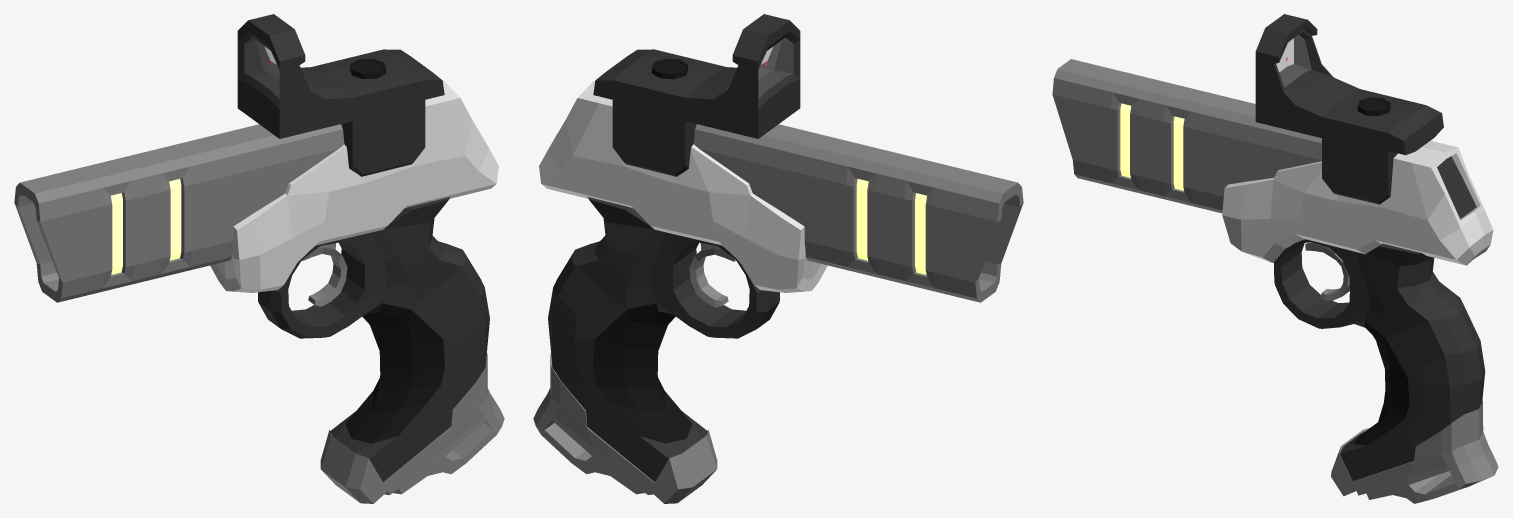
File: Blaster Pistol.fbx
3 views of the same model, side by side, from view 1: azimuth 30°, elevation 25°; view 2: azimuth 150°, elevation 25°; view 3: azimuth 330°, elevation 25° (orthographic). The views are drawn at different scales.
Visible parts, largest first — view 1: Blaster Pistol; view 2: Blaster Pistol; view 3: Blaster Pistol.
Part boxes in pixels (x1,y1,x2,y2): Blaster Pistol: (14,14,504,503); Blaster Pistol: (533,14,1023,503); Blaster Pistol: (1052,14,1498,503).
Size of the model in its own units: 30.04 by 29.63 by 4.61.
